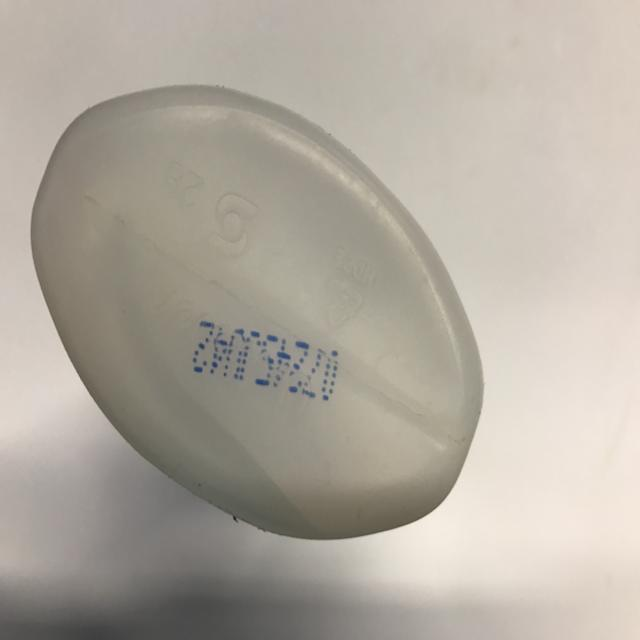plastic: (29, 84, 486, 545)
